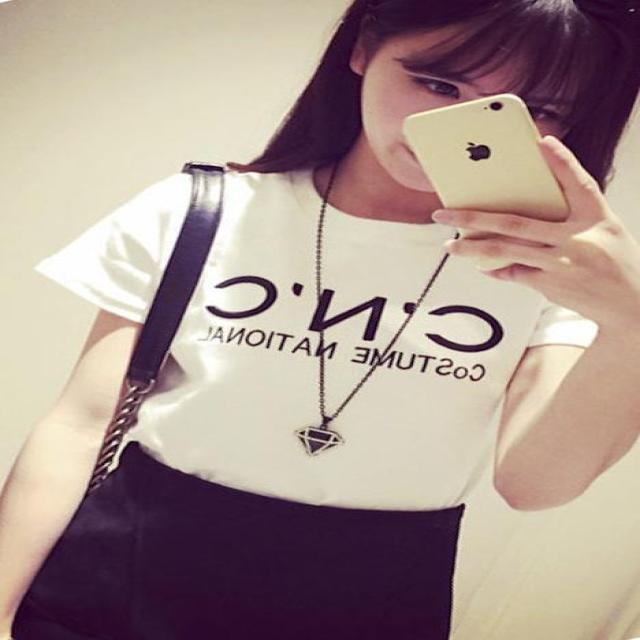short sleeve top: (38, 170, 621, 505)
skirt: (14, 448, 461, 639)
